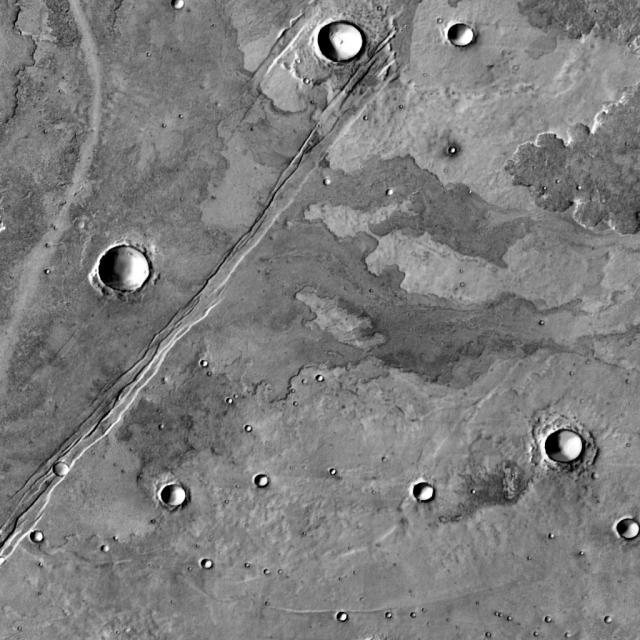crater: (103, 248, 153, 294), (321, 22, 367, 64), (548, 432, 586, 466), (450, 26, 476, 48), (164, 488, 188, 510), (414, 485, 436, 504), (620, 520, 640, 540), (56, 464, 73, 478), (258, 477, 273, 490), (175, 0, 188, 12), (33, 534, 46, 545), (203, 561, 216, 571), (77, 221, 87, 231), (104, 546, 114, 556), (340, 615, 350, 624), (327, 180, 335, 188), (203, 363, 211, 370), (593, 474, 601, 481), (382, 183, 389, 190), (450, 150, 458, 156), (600, 612, 608, 618)
